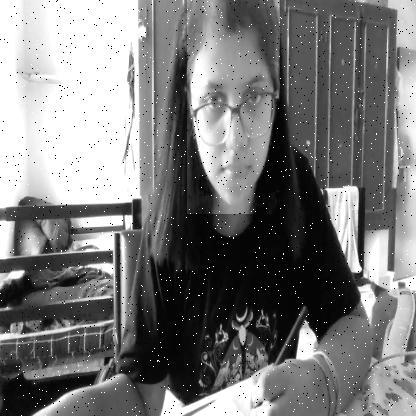Normal: (187, 0, 280, 214)
